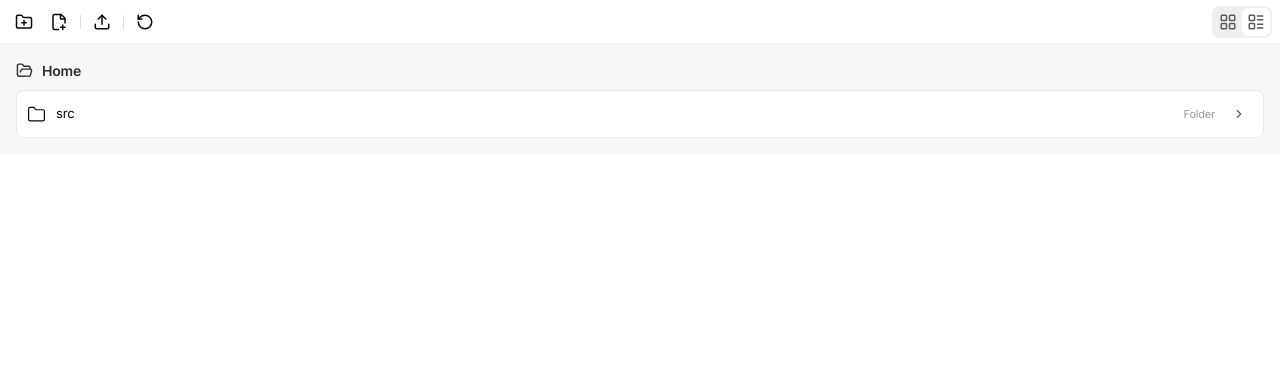
Test: WorkspacePanel › opens the context menu for an expanded list row with its full path
The width and height of the screenshot is (1280, 387).
Step 1. Click the button with class "tree-toggle" → coordinates (1239, 114), box [1225,100,1253,128]
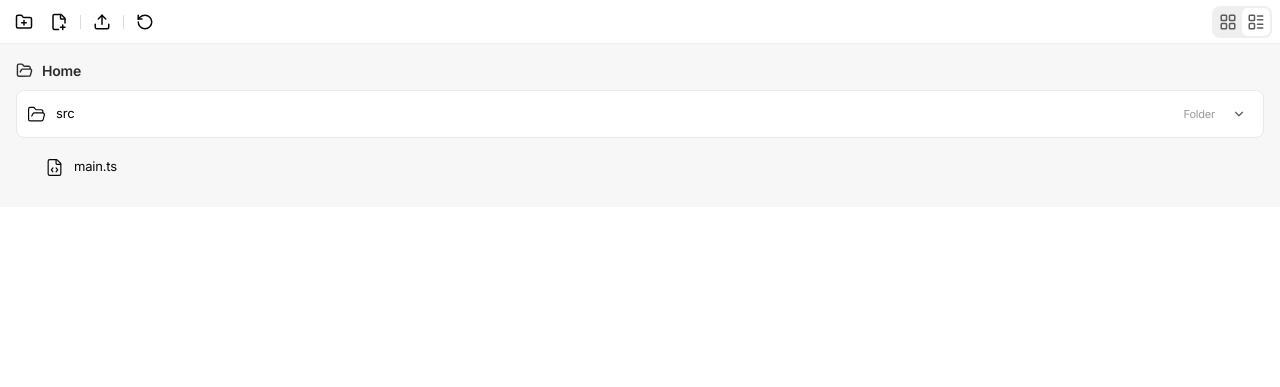
Step 2. Right-click the list item "main .ts" → coordinates (81, 167), box [45,158,117,176]
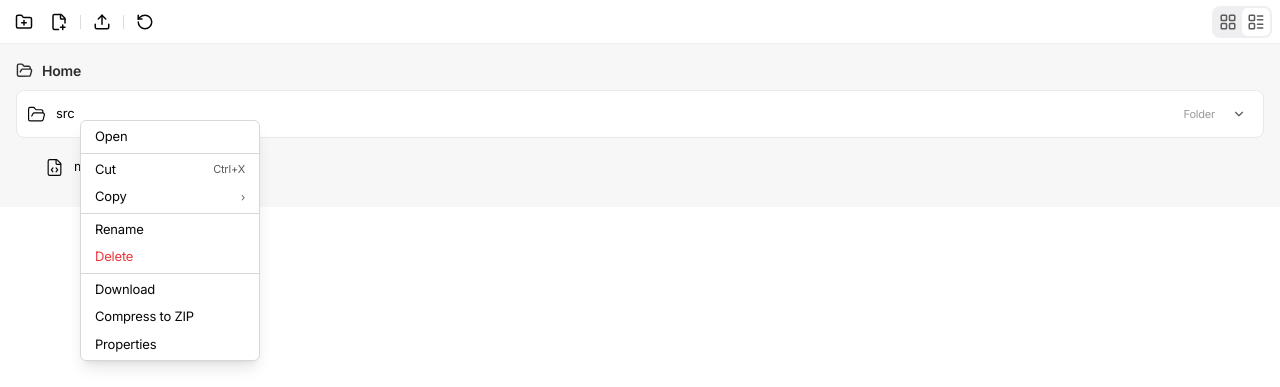
expect the element that starts with "Open" is shown: met, box [80,120,260,361]
